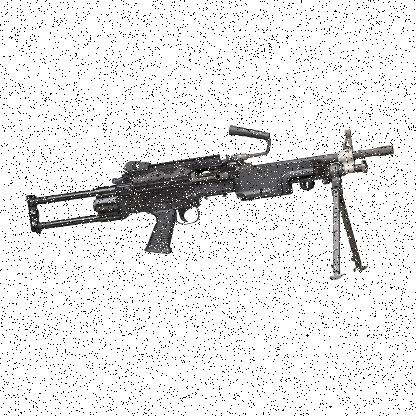gun: (26, 124, 394, 280)
